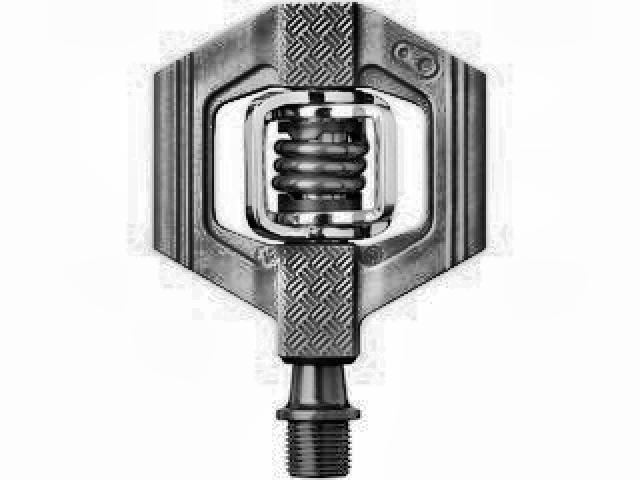pedal: (149, 0, 488, 470)
